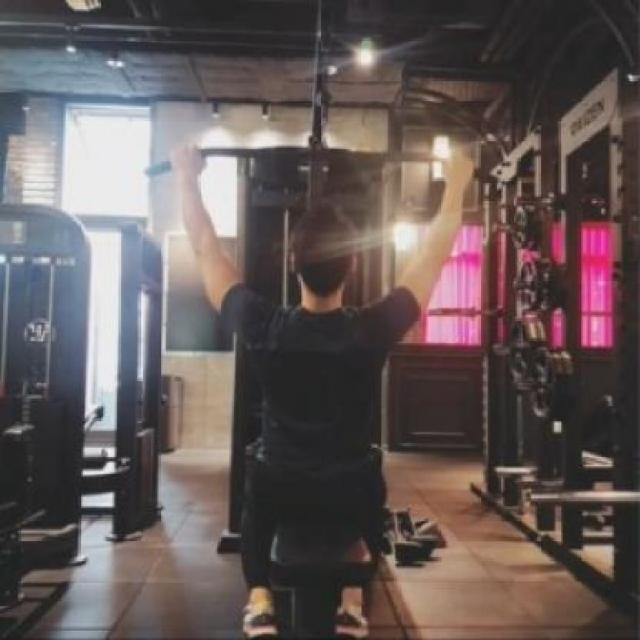Lat Pull Down: (124, 0, 516, 640)
